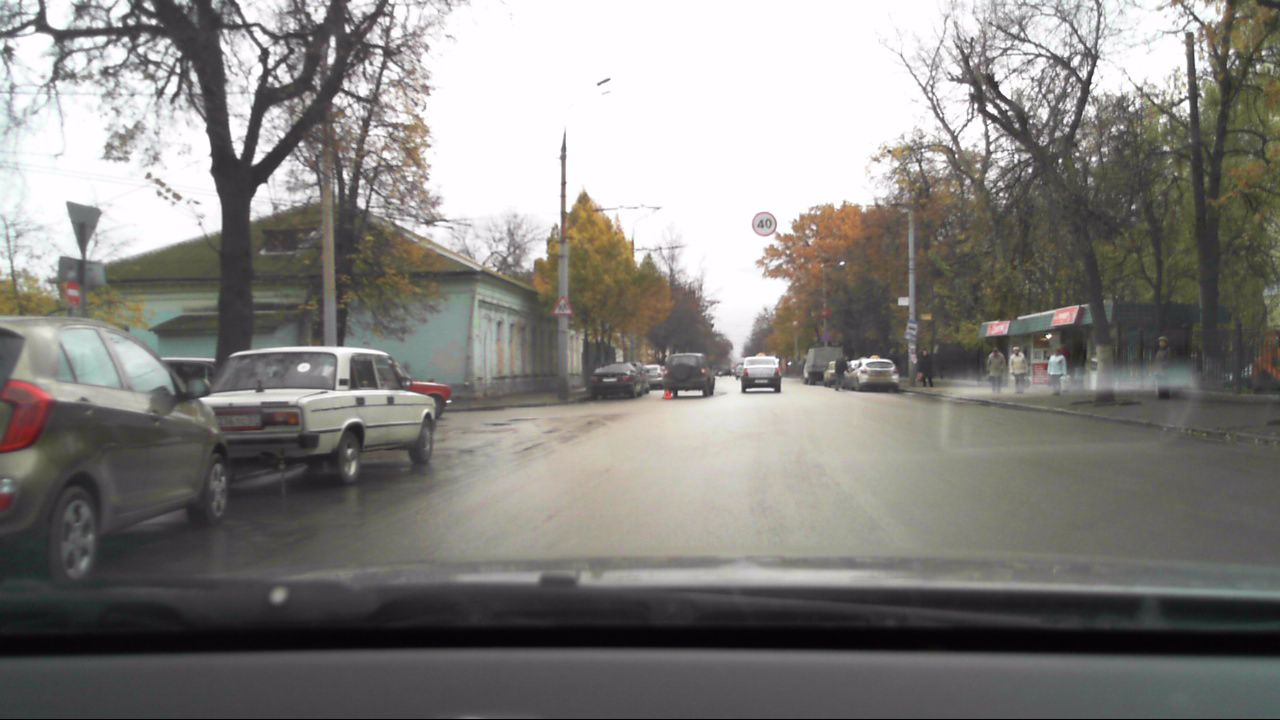speed_warning_40: (751, 210, 777, 236)
